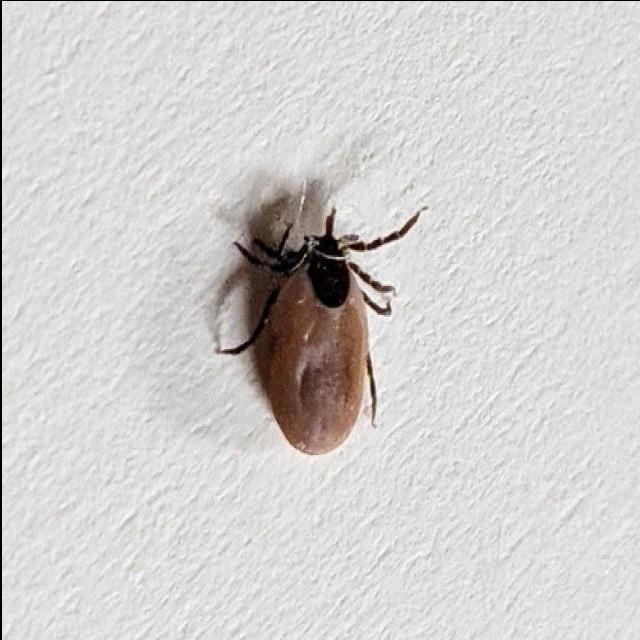Ixodes Ricinus-F-Fed: (215, 207, 422, 456)
